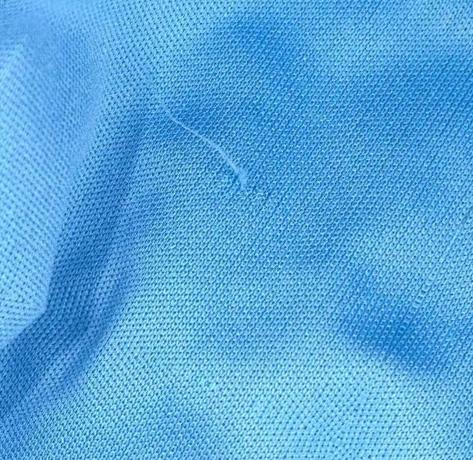snag: (151, 92, 271, 211)
